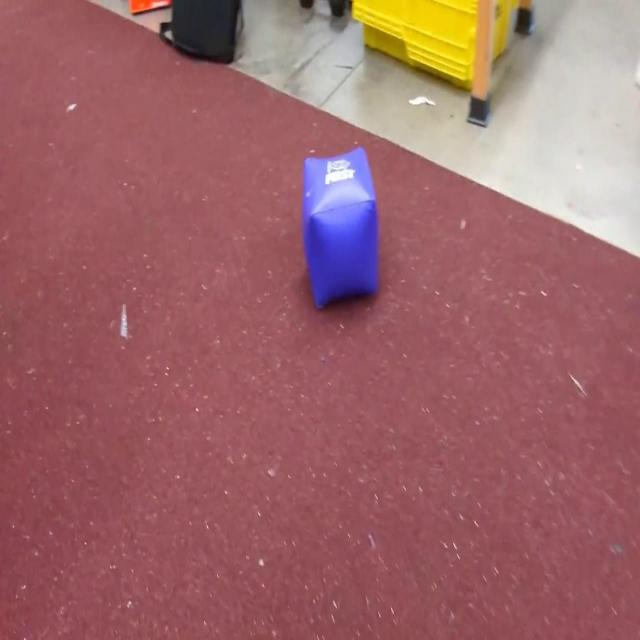frc_cube: (300, 144, 380, 313)
